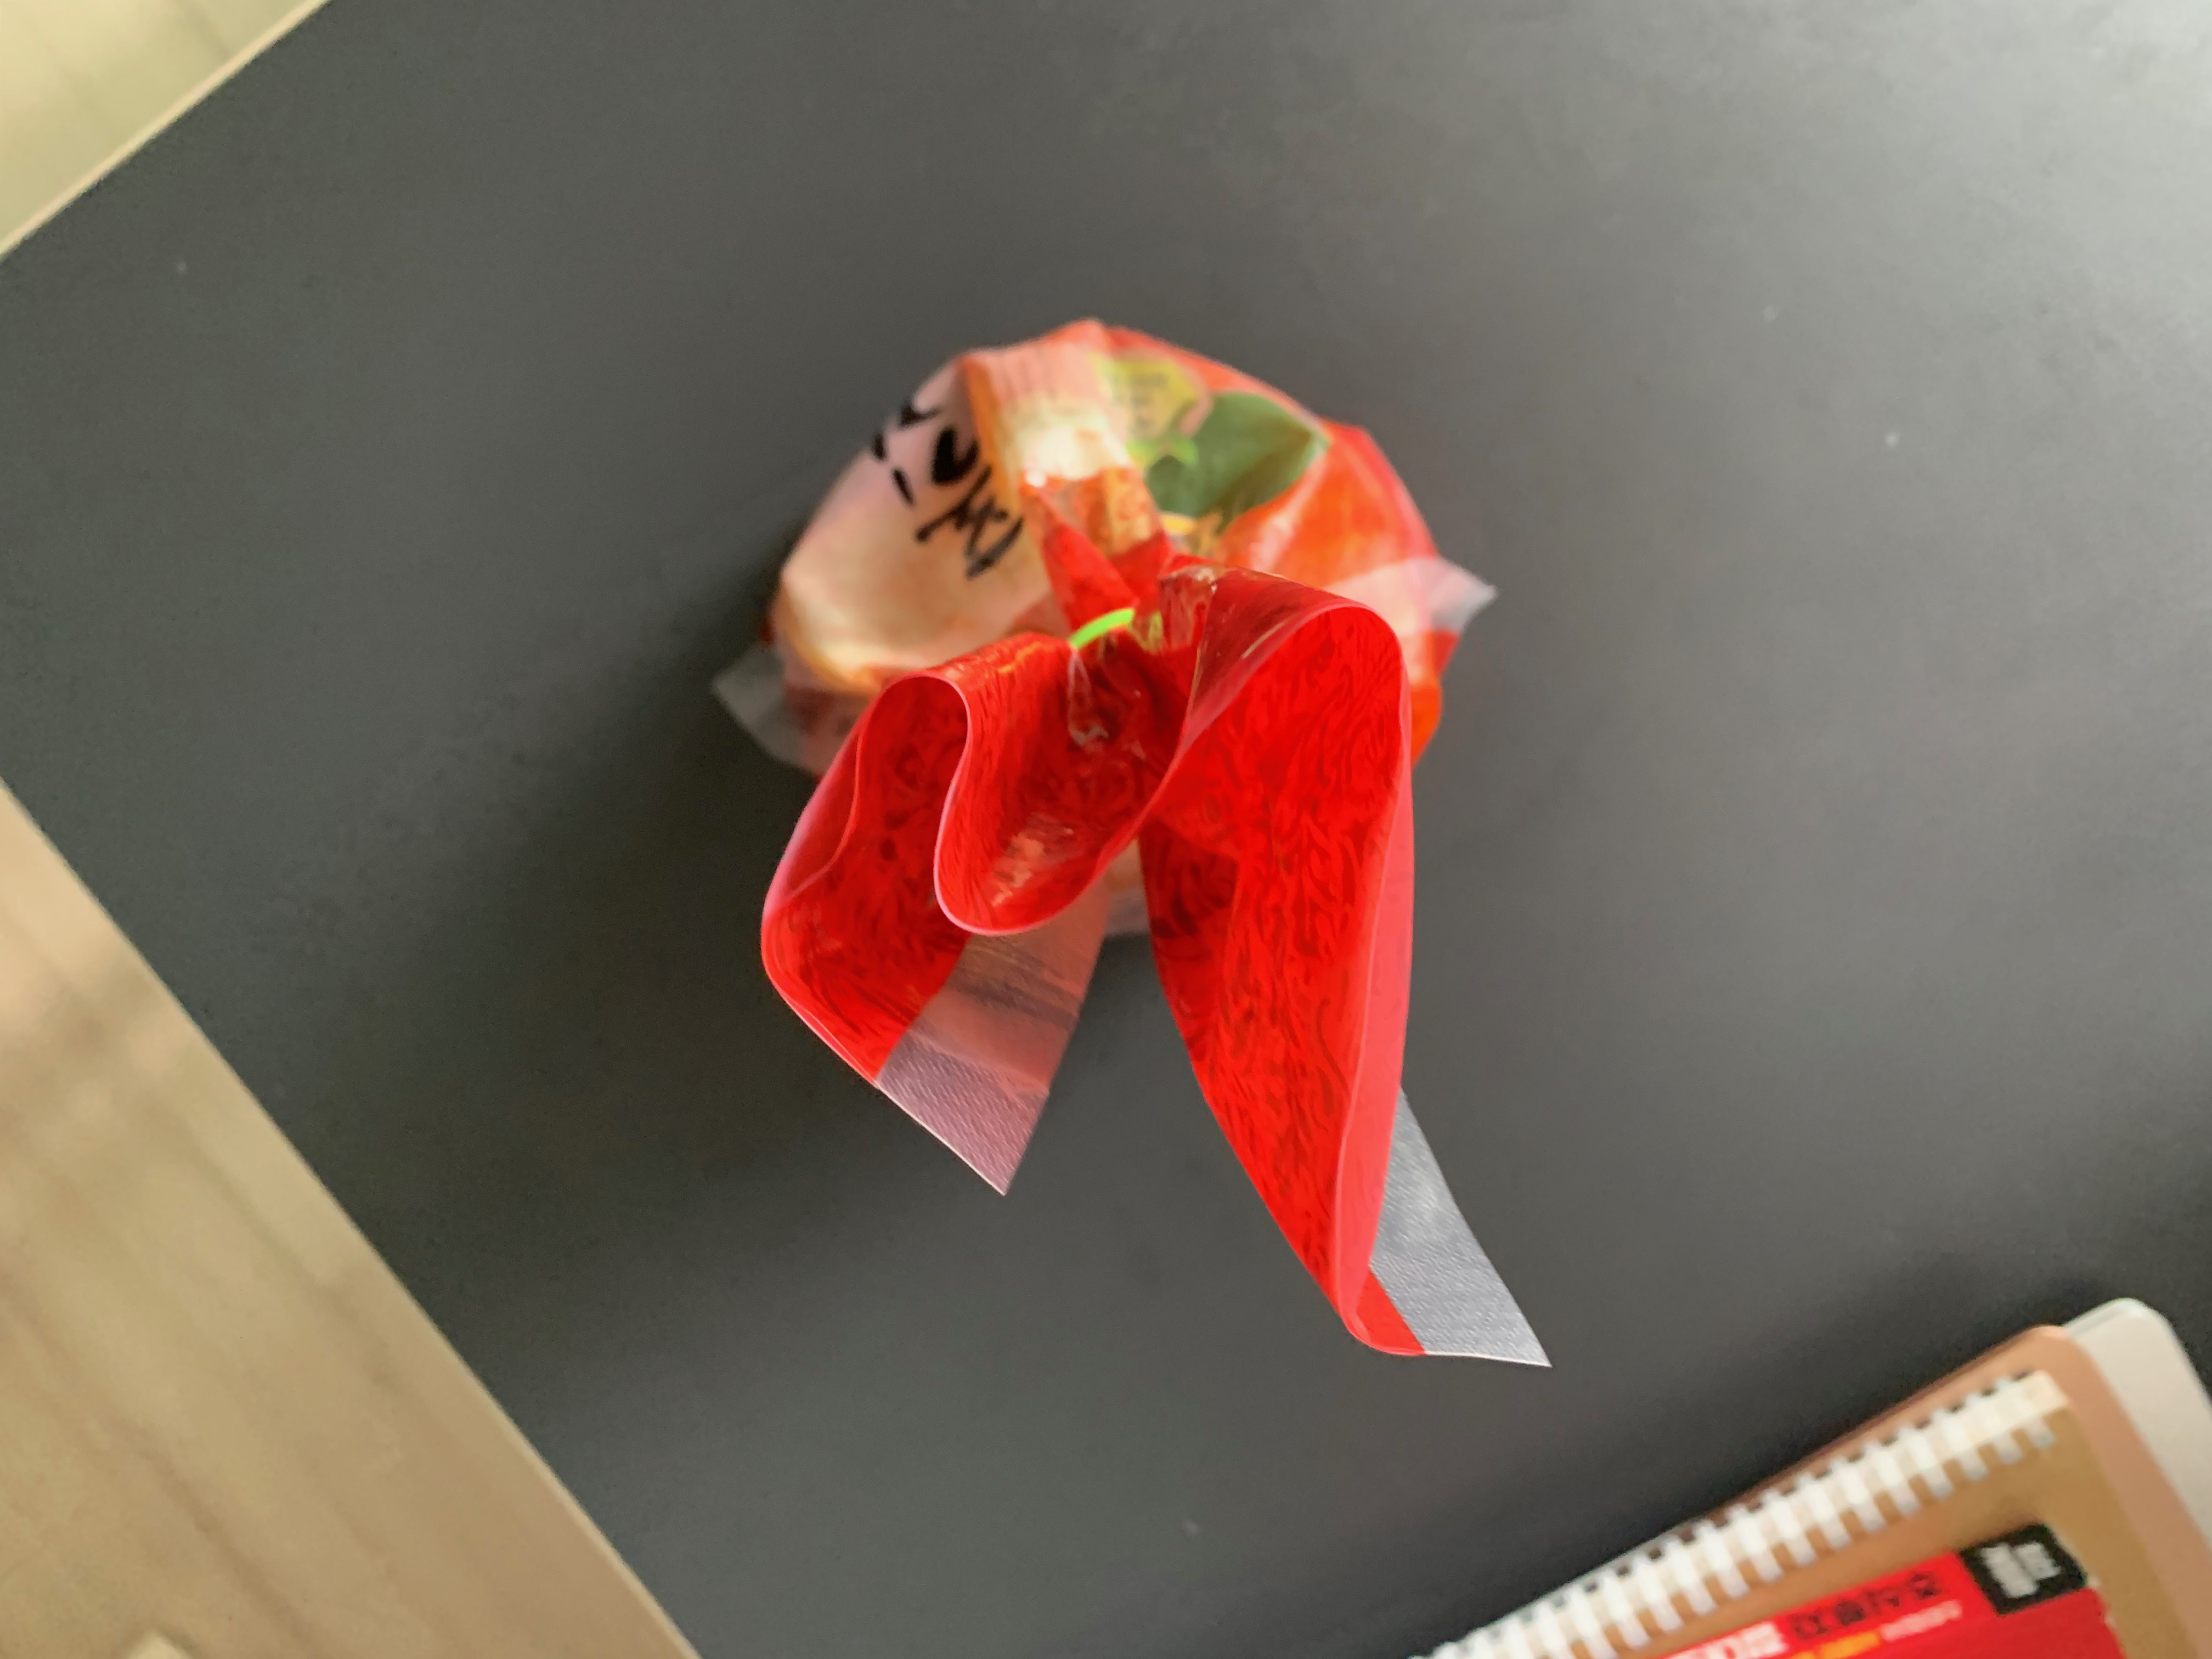kimchi: (754, 319, 1461, 1345)
